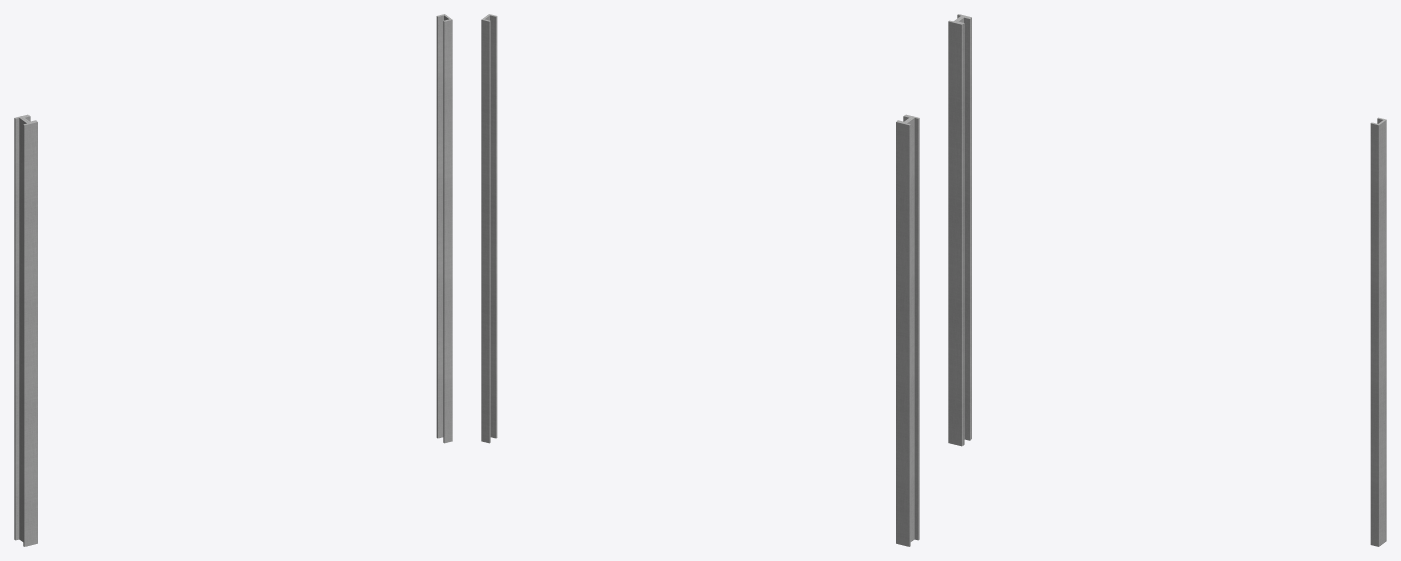
Rendered from main10.glb.
3 renders of one model, left to right at view 1: azimuth 30°, elevation 25°; view 2: azimuth 150°, elevation 25°; view 3: azimuth 330°, elevation 25°, orthographic.
Parts seen in each view (by area): view 1: Line2062813811; view 2: Line2062813811; view 3: Line2062813811.
Part boxes in pixels (bbox=[...]): Line2062813811: bbox=[14, 14, 452, 546]; Line2062813811: bbox=[481, 14, 919, 546]; Line2062813811: bbox=[948, 14, 1386, 546].
Size of the model in its own units: 2.56 by 2.4 by 0.1039.
1 material, 1 textured.
